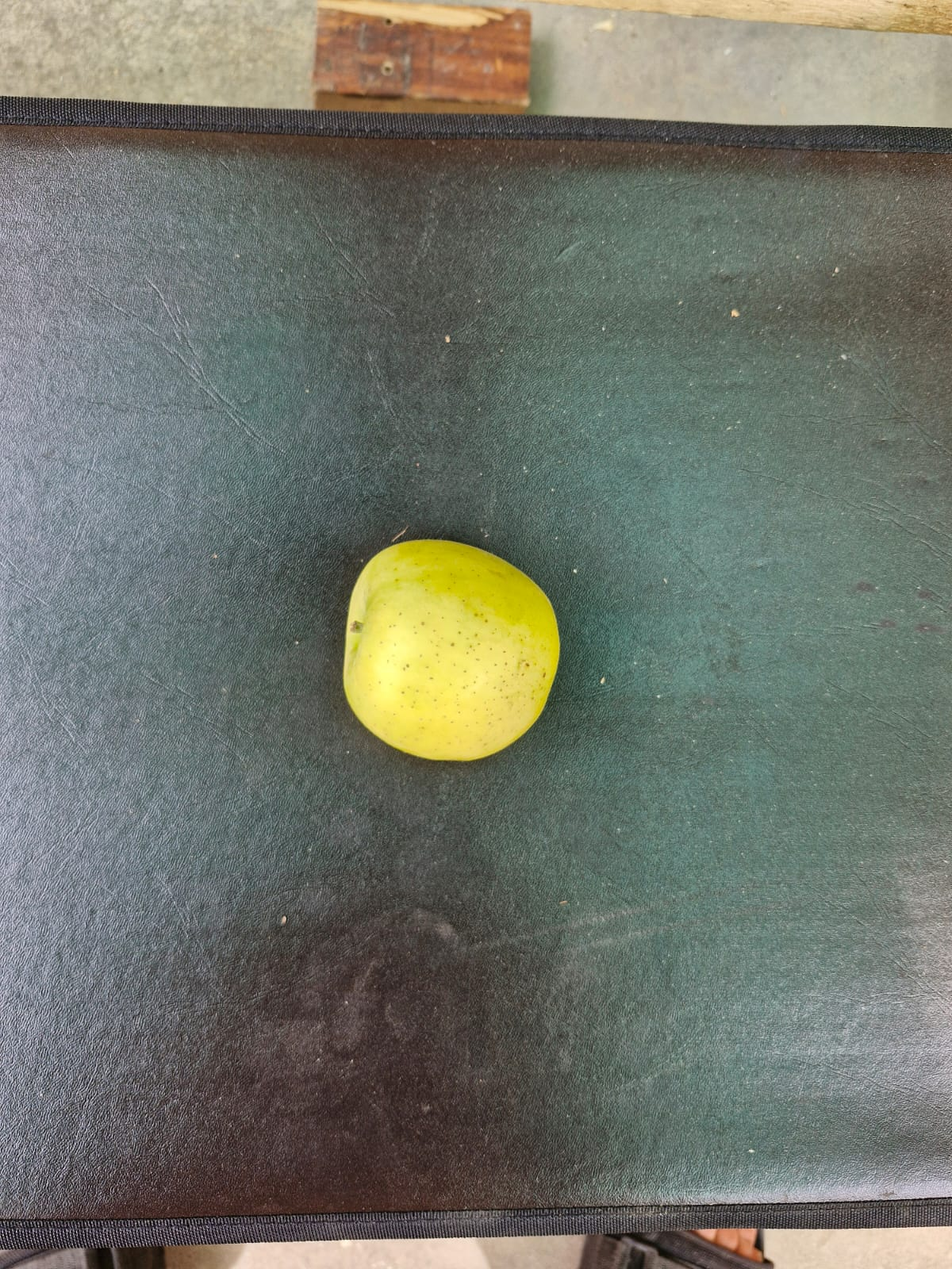apple: (217, 295, 833, 1103)
